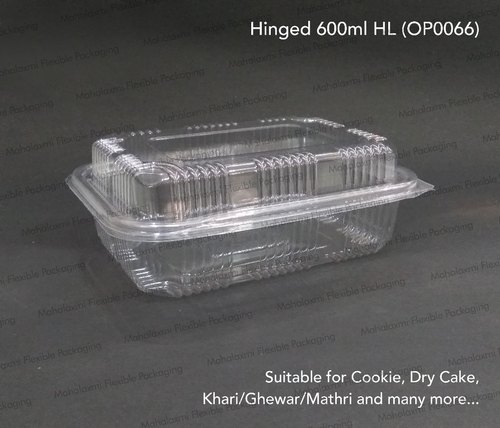PlasticBox: (62, 111, 438, 302)
